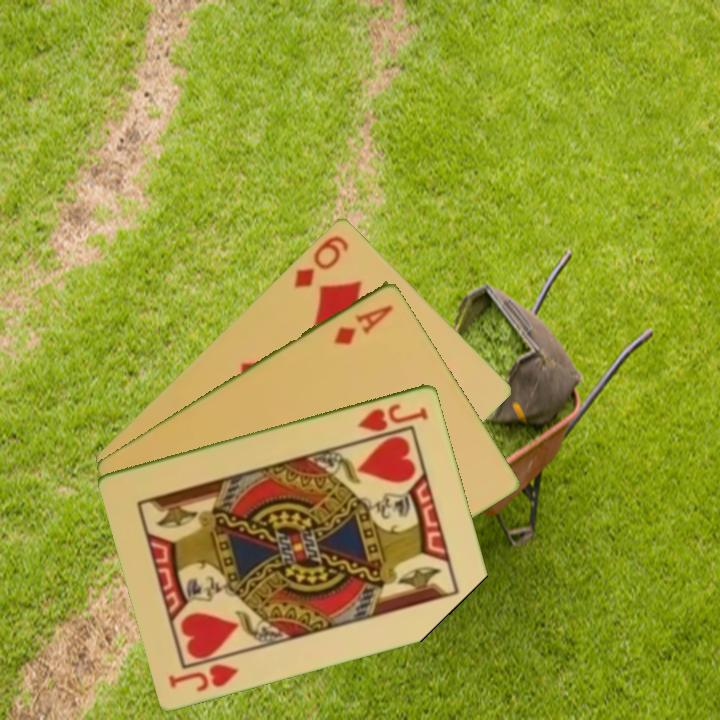6d: (290, 231, 352, 291)
Ad: (330, 300, 397, 348)
Jh: (354, 399, 431, 434), (165, 659, 242, 694)
